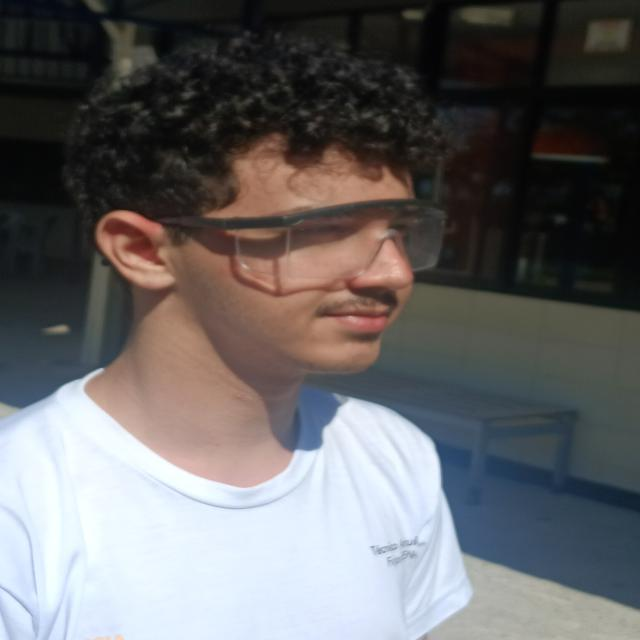oculos-epi: (166, 199, 445, 280)
